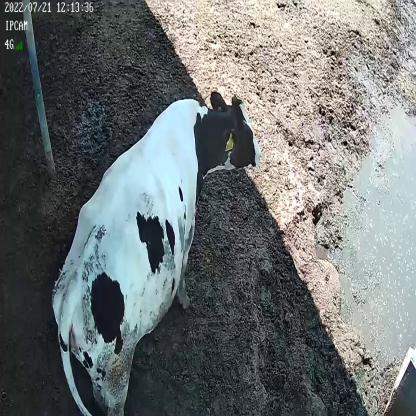cow: (49, 84, 262, 416)
